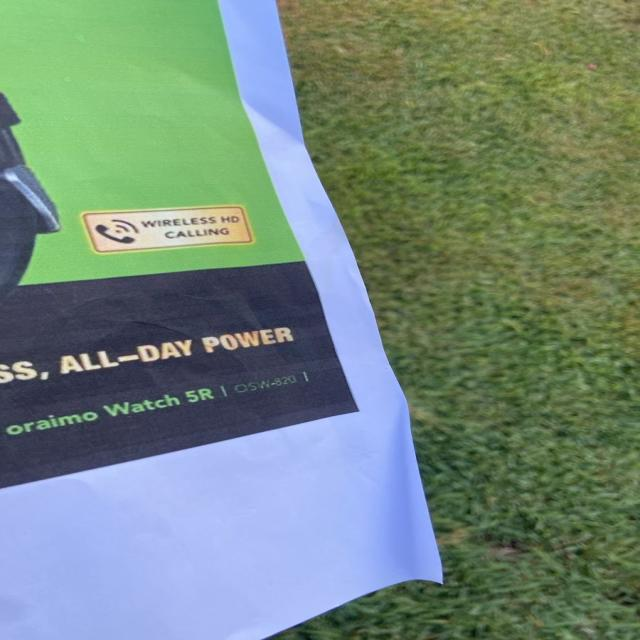Oraimo Watch 5R OSW-820: (4, 371, 329, 445)
